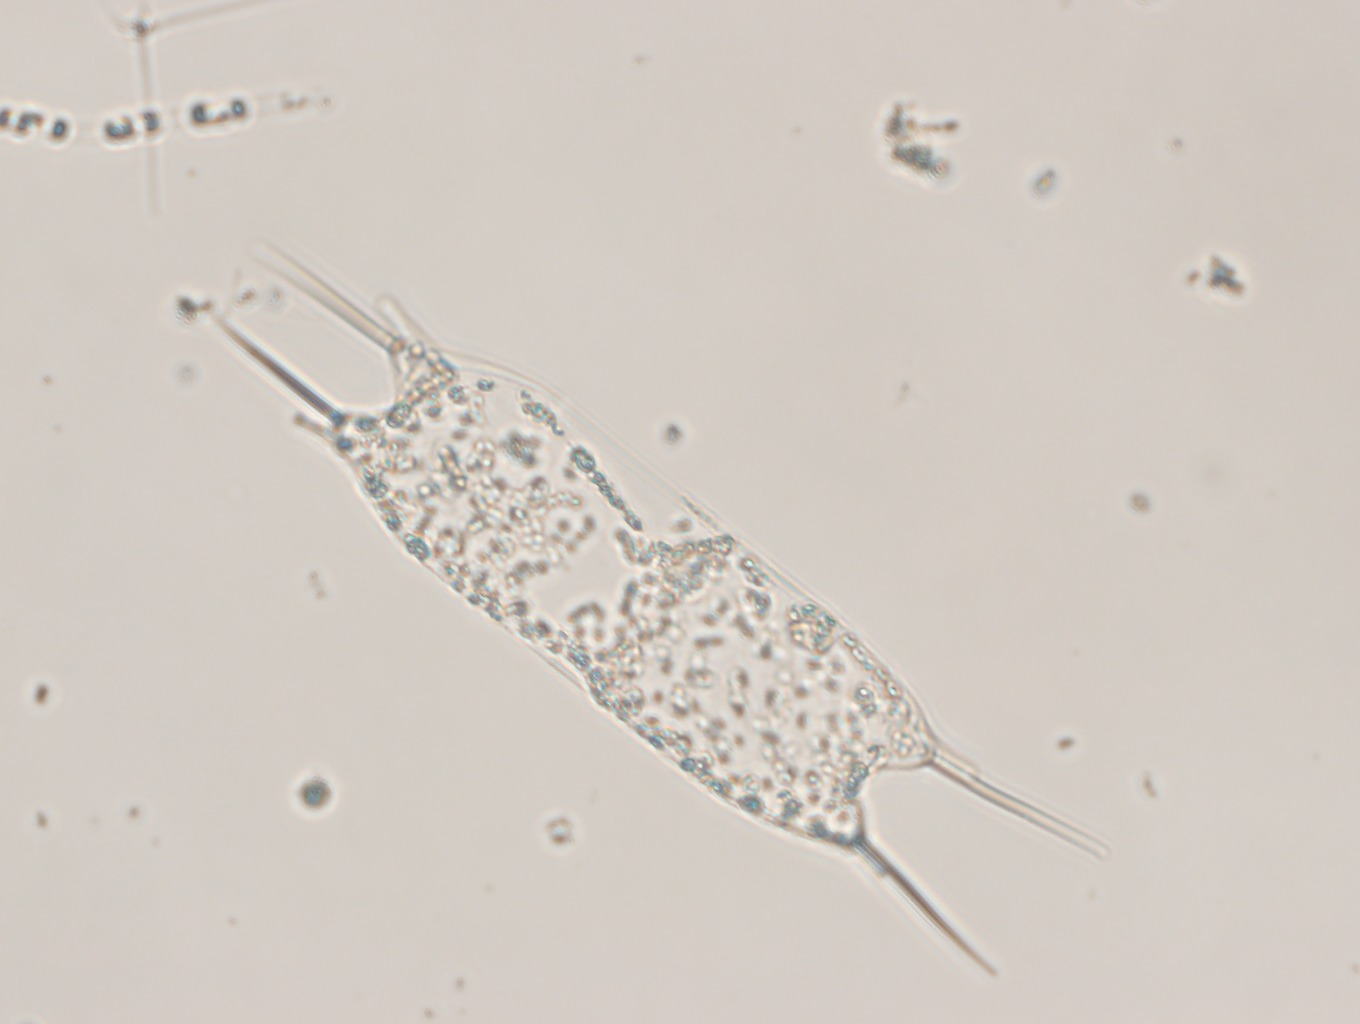biddulphia: (203, 232, 1102, 977)
